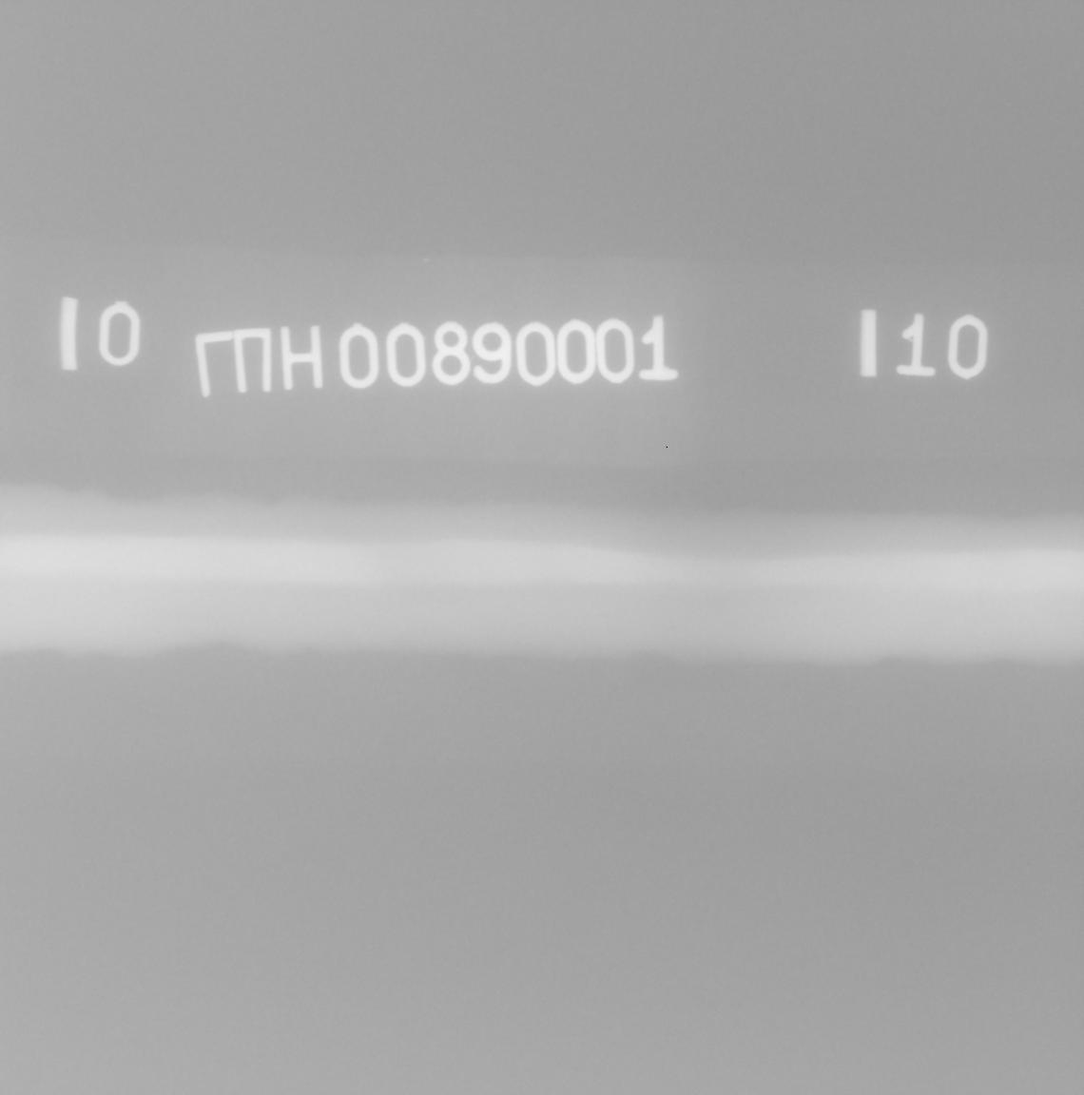Inclusion: (669, 624, 678, 630)
